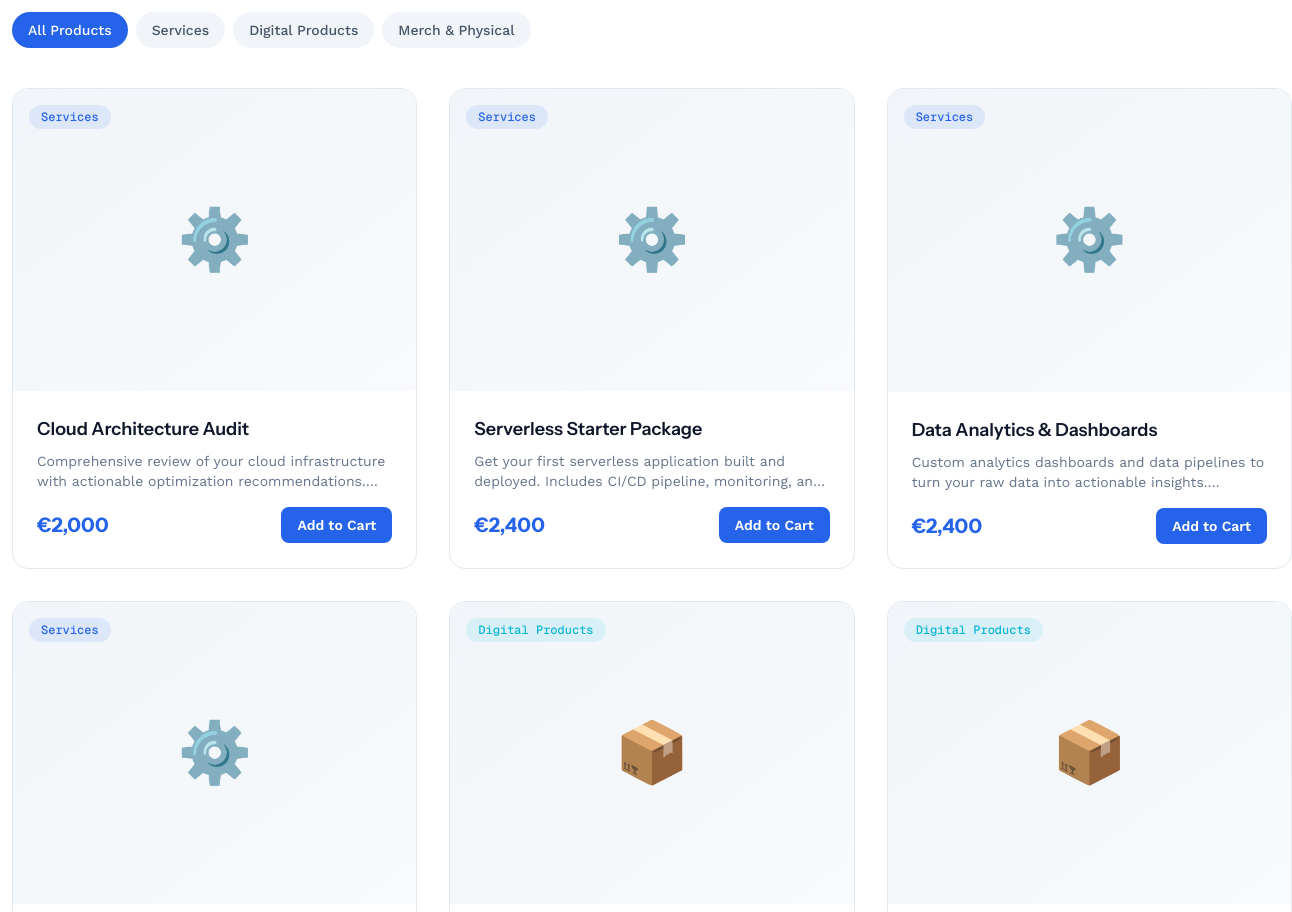
Test: StoreGrid › filters to digital products
This screenshot has width=1292, height=912.
Click the button "Digital Products".
click(304, 30)  # box x1=233 y1=12 x2=374 y2=48
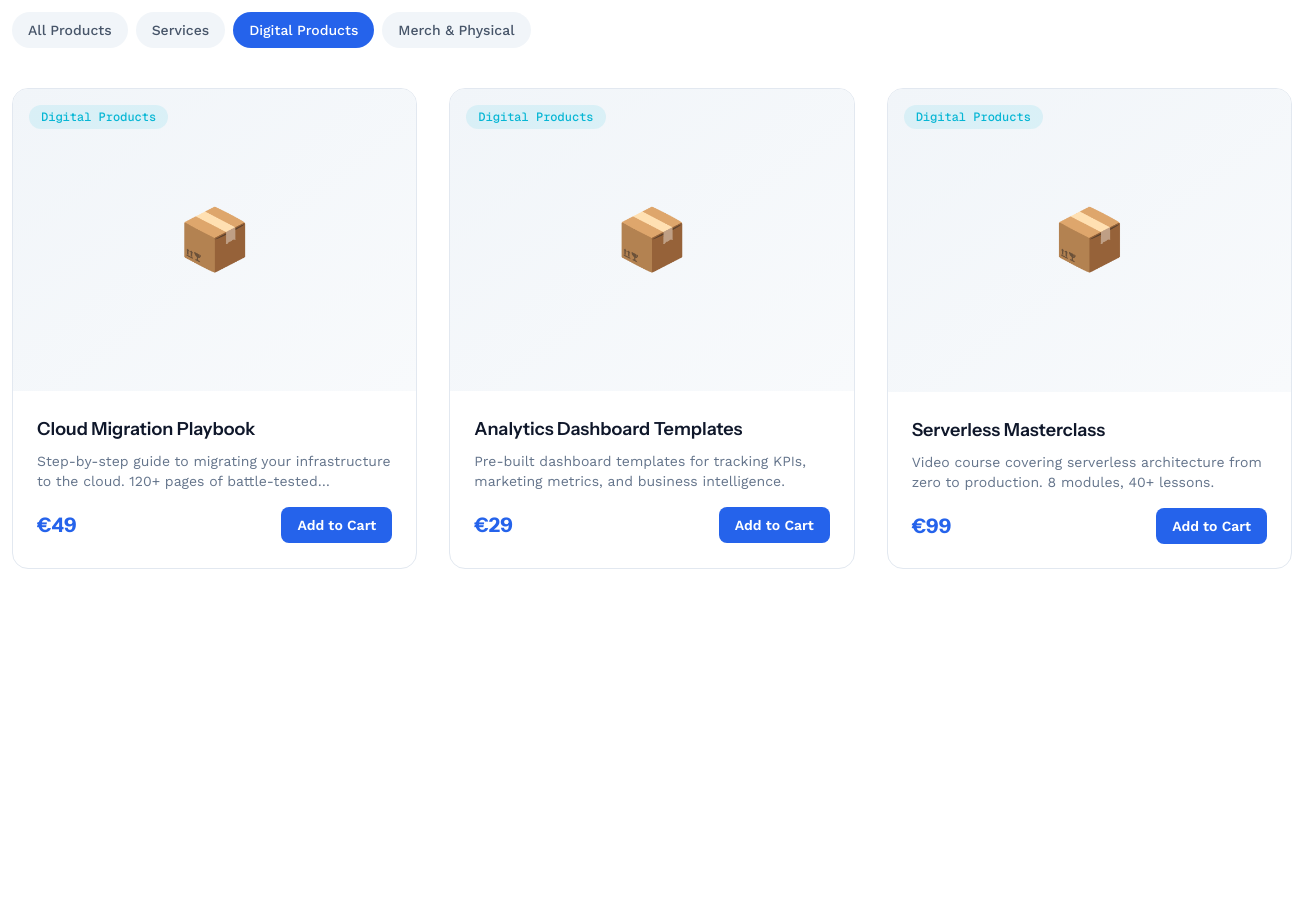
Expected: the heading "Cloud Migration Playbook" is shown, x1=37 y1=418 x2=255 y2=440
Expected: the number of buttons "Add to Cart" is 3, x1=282 y1=508 x2=392 y2=544; x1=719 y1=508 x2=830 y2=544; x1=1156 y1=508 x2=1267 y2=544
